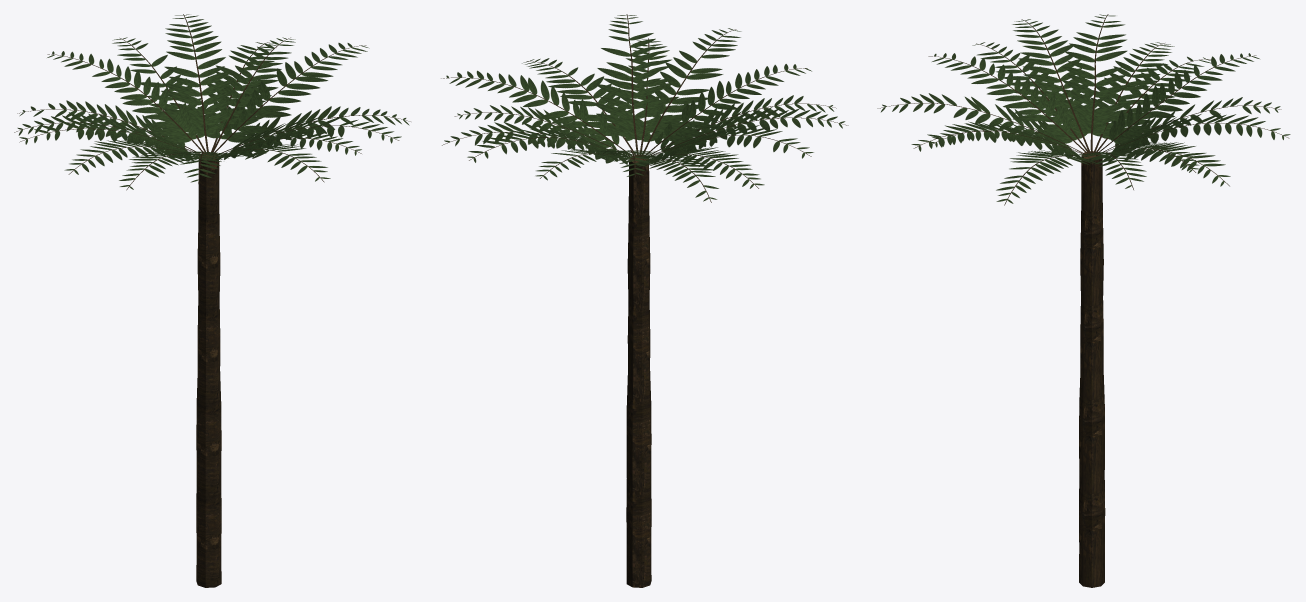
Rendered from tree_fern_v02_LOD1.glb.
3 views of the same model, side by side, from view 1: azimuth 30°, elevation 25°; view 2: azimuth 150°, elevation 25°; view 3: azimuth 270°, elevation 25° (orthographic).
Visible parts, largest first — view 1: tree_fern_v02_LOD1; view 2: tree_fern_v02_LOD1; view 3: tree_fern_v02_LOD1.
Boxes of the visible parts, box(x1,y1,x2,y2) form: tree_fern_v02_LOD1: box(14, 14, 410, 587); tree_fern_v02_LOD1: box(441, 14, 848, 587); tree_fern_v02_LOD1: box(877, 14, 1290, 587).
Bounding box in the file's own units: 3.37 × 4.36 × 3.34.
Materials: 2 (2 with a texture image).
